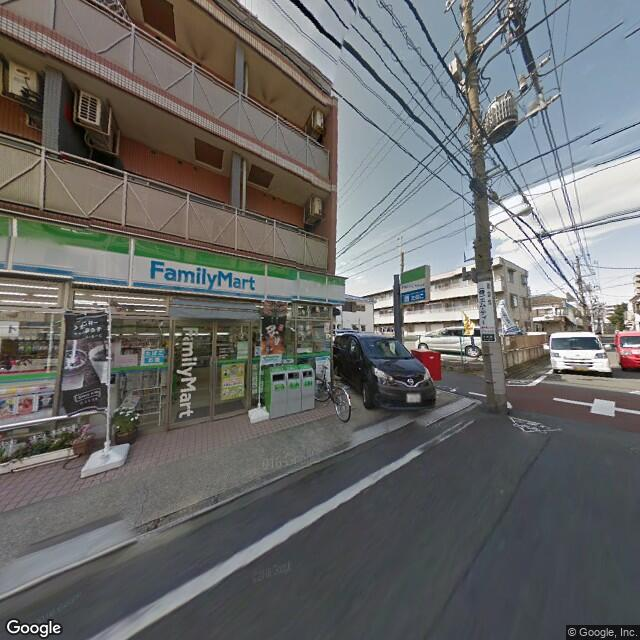family_mart: (2, 208, 351, 312), (146, 255, 257, 298), (174, 319, 197, 421), (396, 264, 431, 305)
